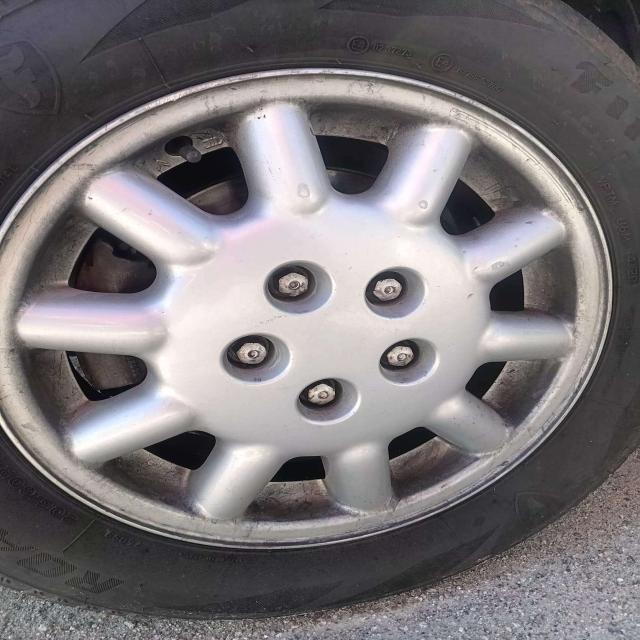jante: (0, 65, 616, 551)
parafuso: (272, 270, 312, 298), (368, 278, 408, 304), (234, 342, 270, 366), (304, 383, 340, 407), (384, 344, 416, 369)
roda: (0, 0, 640, 617)
